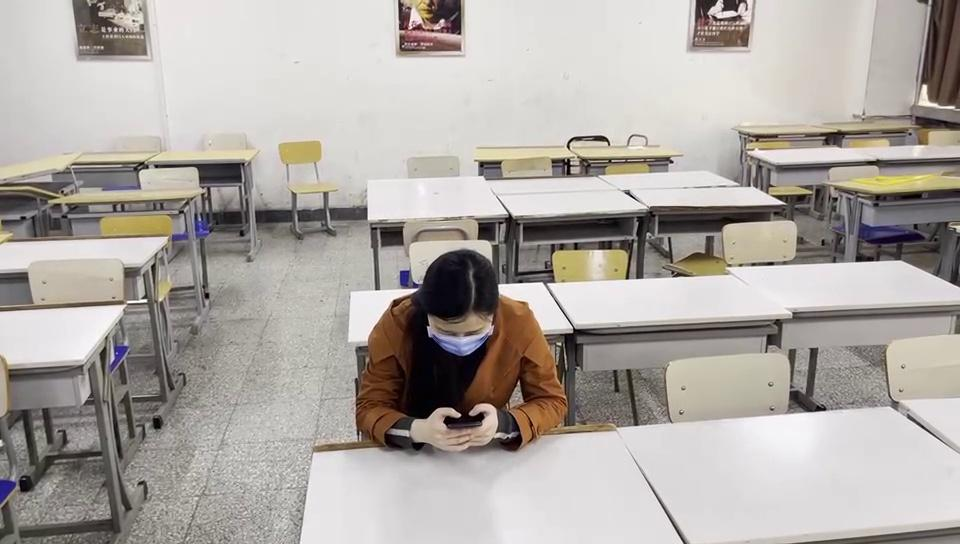phone: (355, 250, 567, 450)
